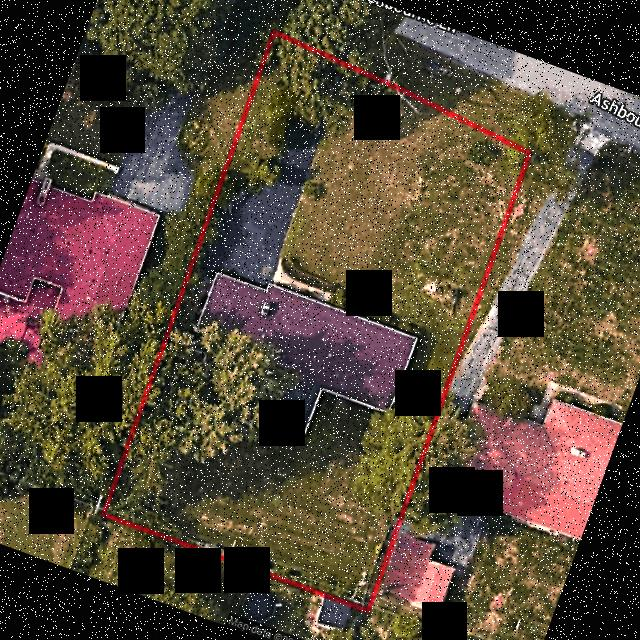Driveway: (203, 43, 345, 285)
Extra Lawn: (385, 34, 550, 147)
House: (174, 272, 416, 436)
